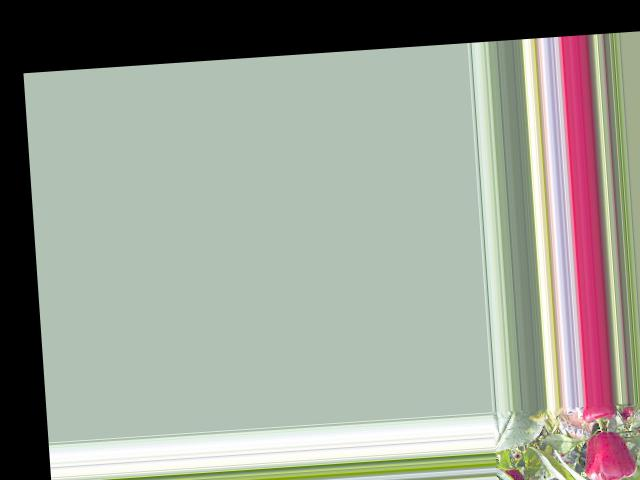bell_pepper: (578, 402, 619, 426)
